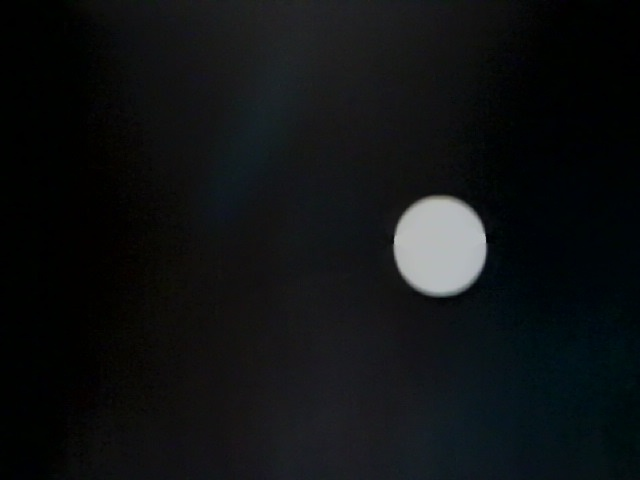QTLJ: (36, 334, 223, 480)
